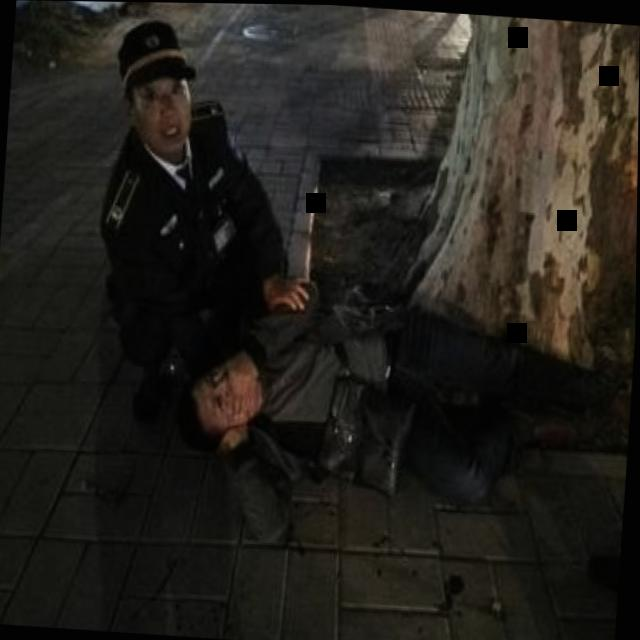Fall-Detected: (175, 245, 637, 548)
